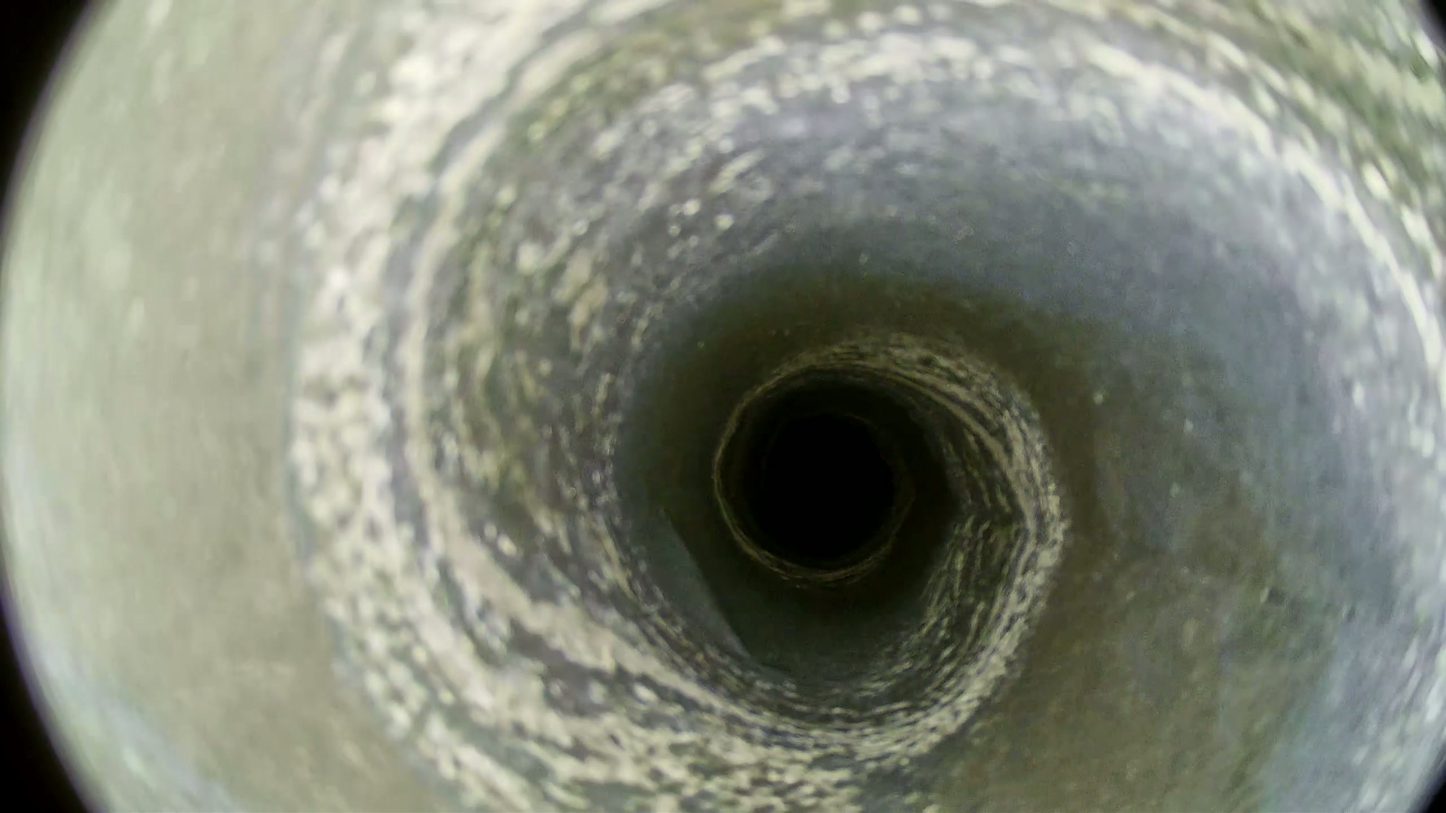hole: (766, 419, 884, 534)
